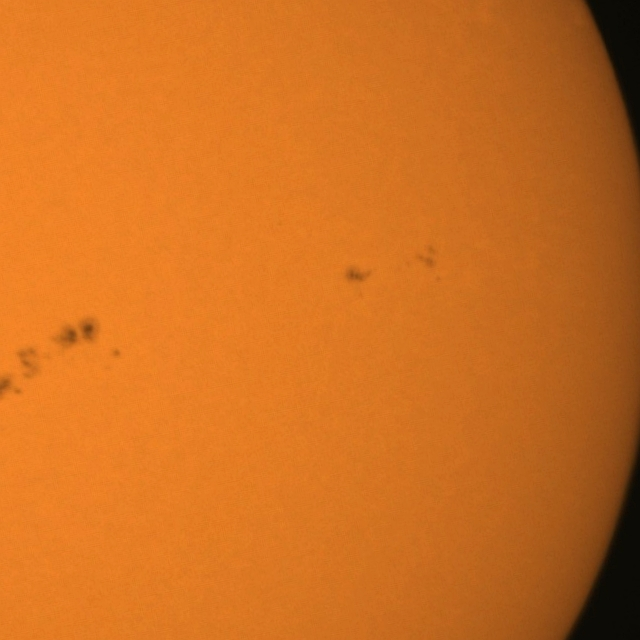sunspot: (0, 354, 38, 400), (48, 318, 97, 351), (13, 344, 40, 384), (415, 243, 440, 278), (0, 372, 26, 400), (344, 265, 373, 286), (111, 347, 123, 360)
